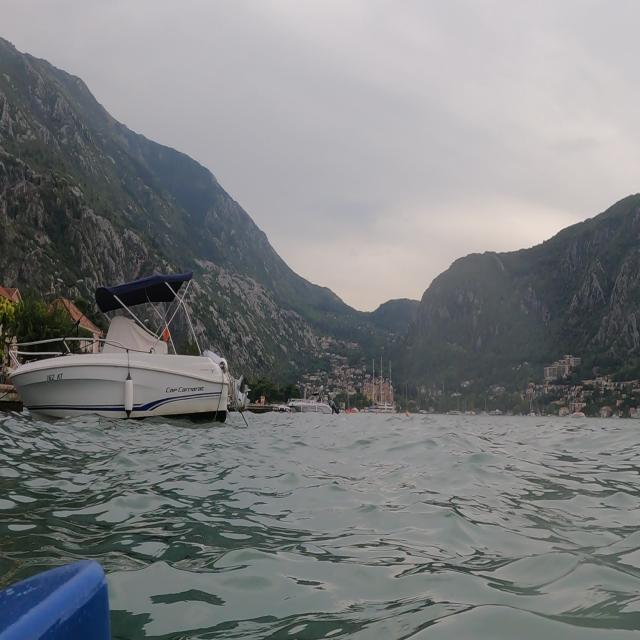boat: (8, 266, 249, 427), (286, 364, 341, 424), (368, 359, 410, 422)
